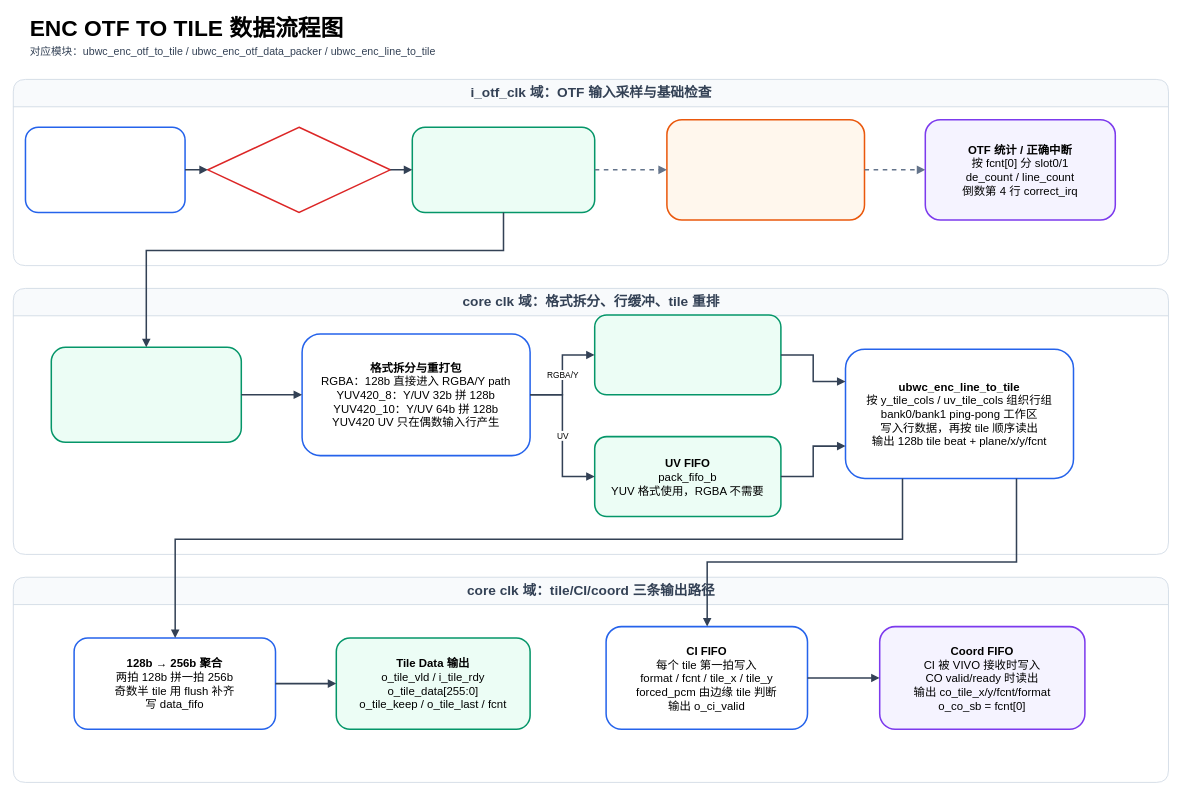
Some shapes in this 1182 by 796 pixel diagram are drawn without their labels. Here are the shapes that lost their labels. From the top down, the centre of each, then its label:
At (x=104, y=169): "OTF 输入 vsync / hsync / de data[127:0] fcnt / lcnt".
At (x=299, y=169): "de & ready? ready = !input_fifo_full".
At (x=503, y=169): "异步输入 FIFO 写入 OTF beat 携带 fcnt/lcnt/vsync/hsync 跨到 core clk 域".
At (x=765, y=169): "错误检查 短行：err_bline 短帧：err_bframe ready 无效仍 de：err_fifo_ovf".
At (x=687, y=354): "RGBA/Y FIFO pack_fifo_a 128b data + keep/last + sideband".
At (x=146, y=394): "读取 input FIFO pipe_stall 时停止读取 保留 sideband {fcnt,lcnt,vsync,hsync,last}".
